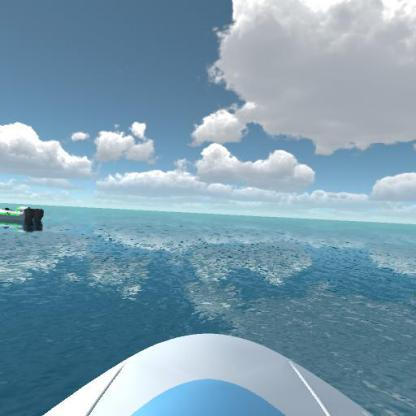usv0: (0, 195, 49, 236)
